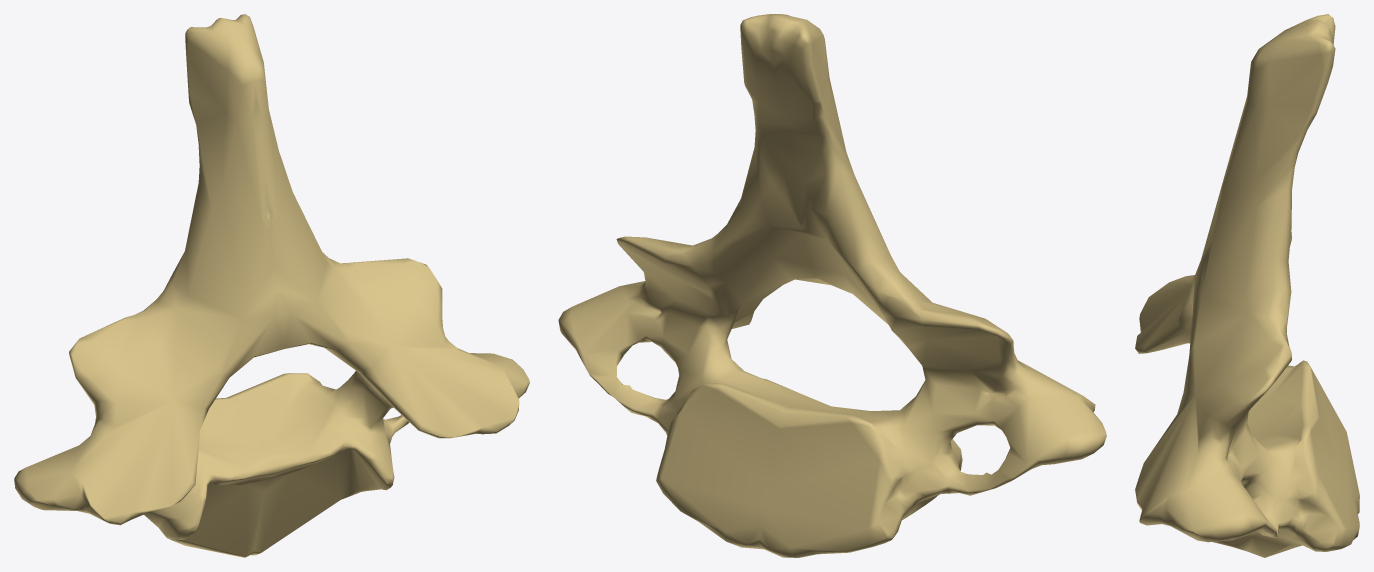
The picture shows the model from 3 angles, left to right: view 1: azimuth 30°, elevation 25°; view 2: azimuth 150°, elevation 25°; view 3: azimuth 270°, elevation 25°; orthographic projection. The views are drawn at different scales.
Visible parts, largest first — view 1: 第七颈椎; view 2: 第七颈椎; view 3: 第七颈椎.
Boxes of the visible parts, bbox=[...] form: 第七颈椎: bbox=[14, 14, 529, 557]; 第七颈椎: bbox=[558, 14, 1106, 557]; 第七颈椎: bbox=[1135, 14, 1359, 557].
Bounding box in the file's own units: 0.1049 × 0.1036 × 0.0398.
